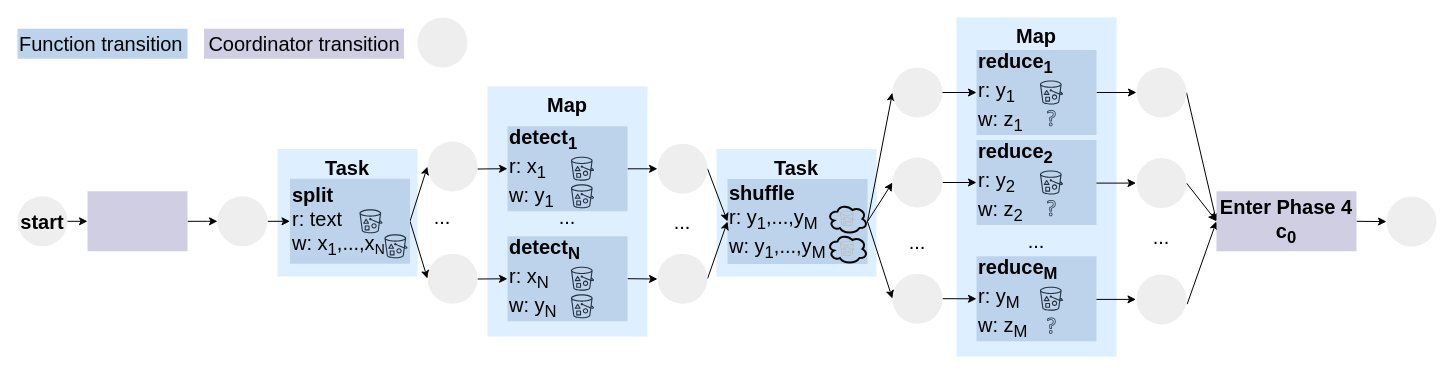
The diagram is 1453 pixels wide and 373 high, and some of its shapes have lost their labels. Each missing label, with the centre of its shape:
"c 0" belongs at [137,221].
"end" belongs at [1411,221].
"place" belongs at [442,42].
